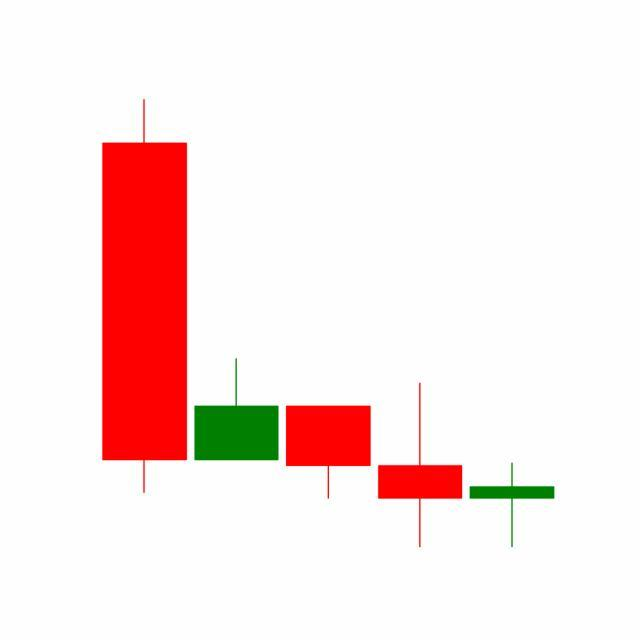Spinning Top: (466, 461, 559, 549)
